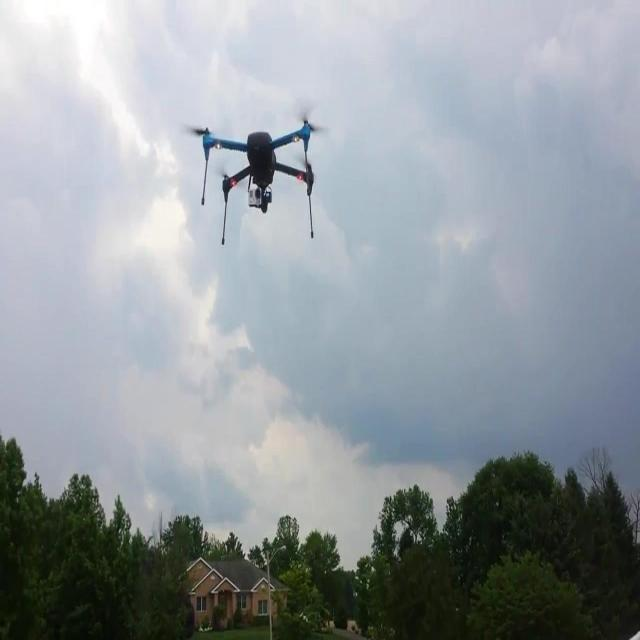drone: (195, 113, 319, 245)
